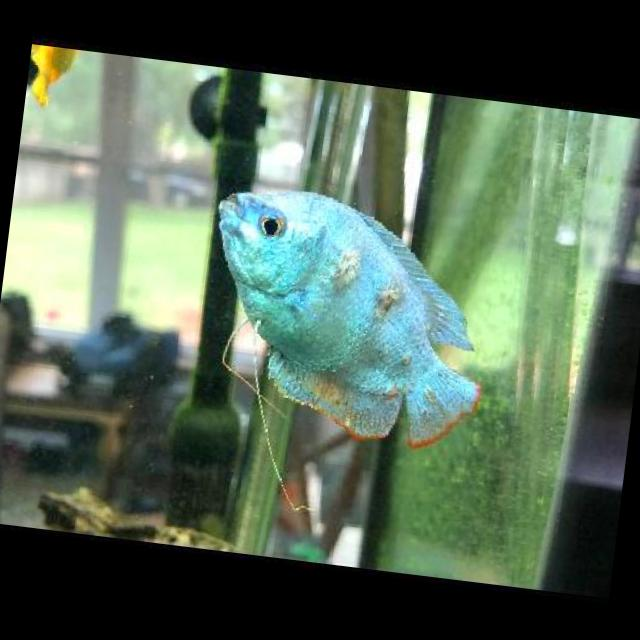Gourami: (188, 182, 506, 444)
